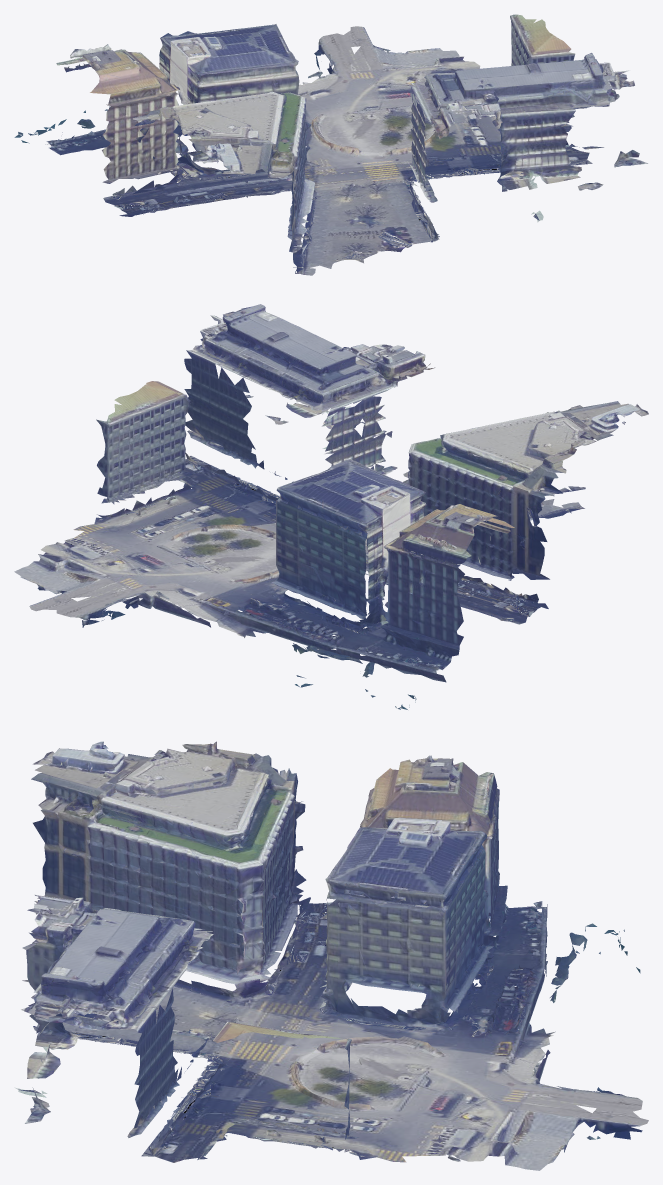
3 views of the same model, one above another, from view 1: azimuth 30°, elevation 25°; view 2: azimuth 150°, elevation 25°; view 3: azimuth 270°, elevation 25° (orthographic). The views are drawn at different scales.
Bounding box in the file's own units: 108 × 34.72 × 107.
1 material, 1 textured.
